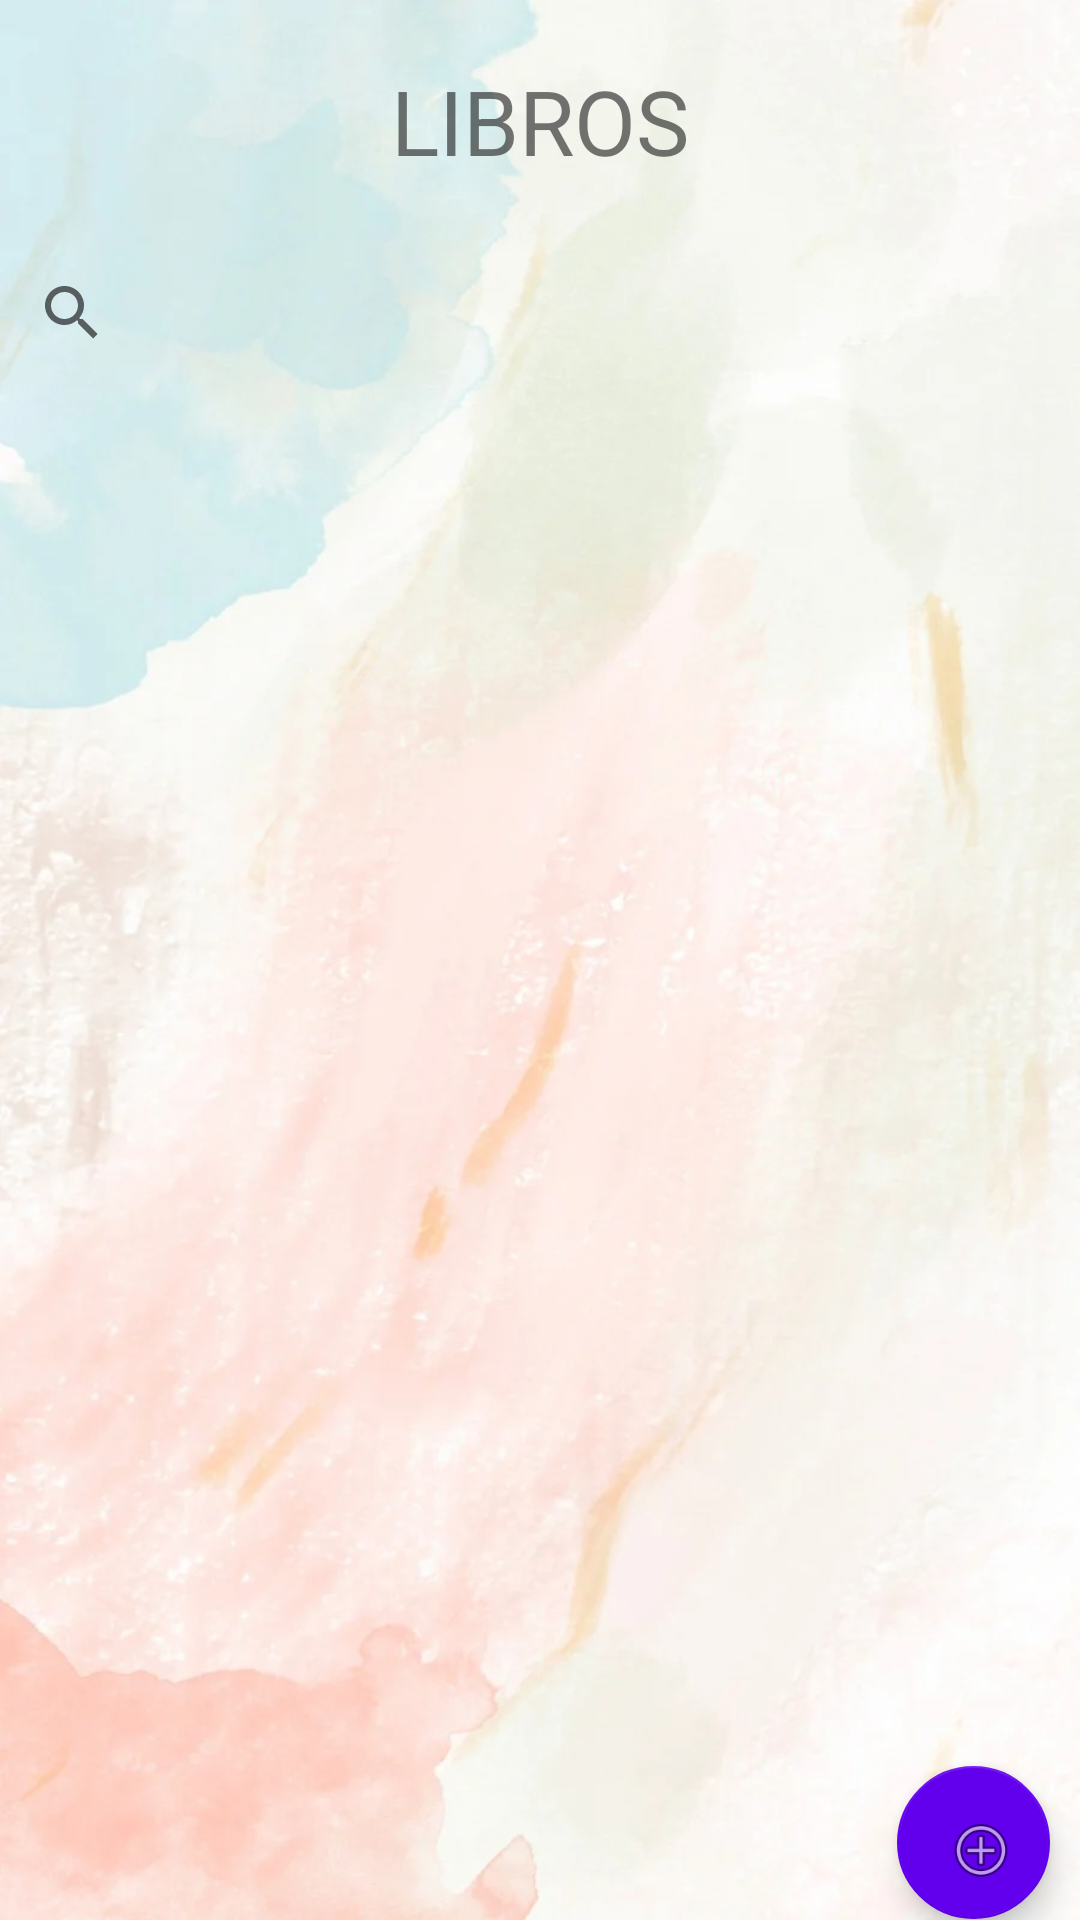

Icon bounding boxes for this 1080*1920 phone screenshot, format region(x1, y1, x2, y2):
add: region(897, 1766, 1050, 1919)
